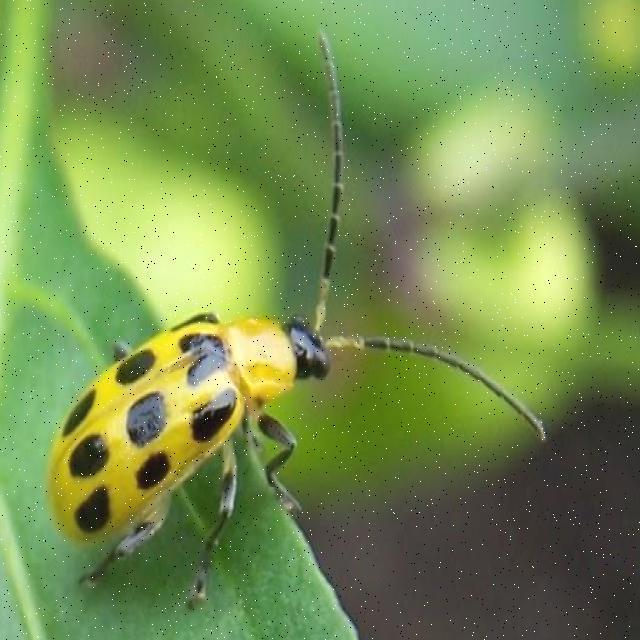gusano_verde: (48, 34, 548, 610)
